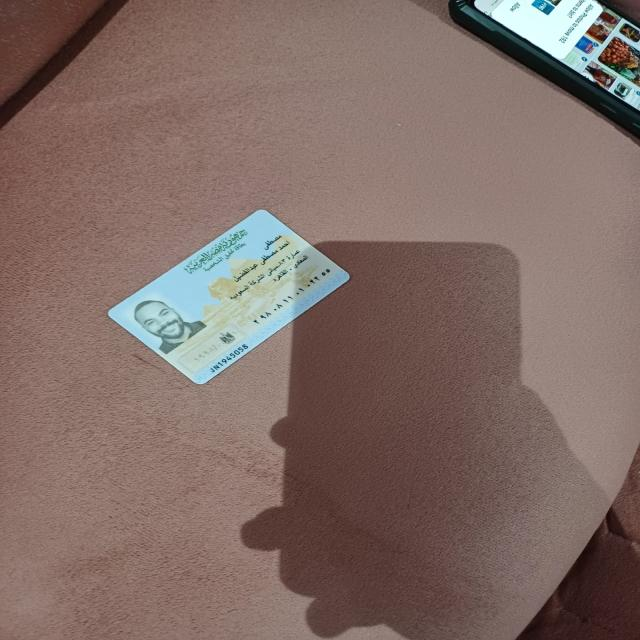id_card: (101, 203, 359, 393)
